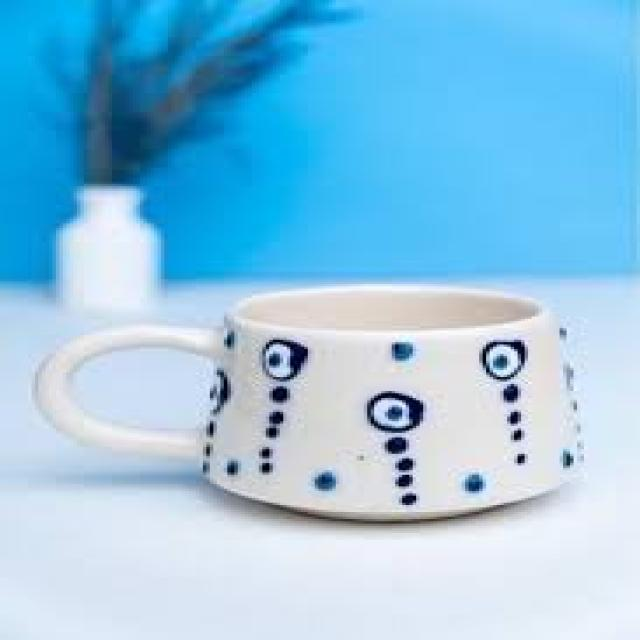taza: (30, 284, 588, 522)
